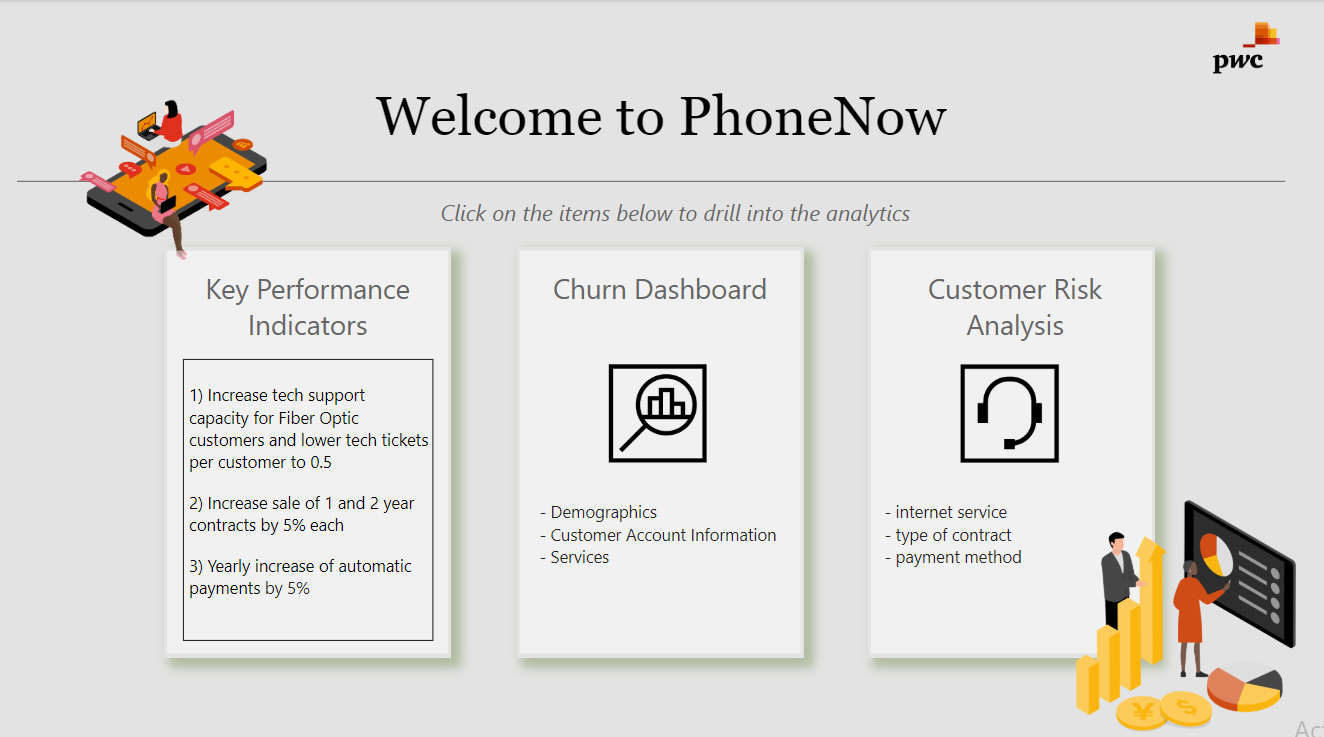

Layout of this report page (visuals, bound fields, positions):
{"tool":"powerbi","page":{"name":"Welcome","canvas":[1280,720],"ordinal":0},"visuals":[{"type":"basicShape","box":[500.5,238.4,276.8,396.5],"z":0},{"type":"basicShape","box":[839.4,238.4,276.8,396.5],"z":1000},{"type":"textbox","box":[0,77,1280,78.9],"z":2000},{"type":"basicShape","box":[7.9,155.9,1243.8,40.7],"z":3000},{"type":"image","box":[924.5,347.8,105,105],"z":4000},{"type":"textbox","box":[843.6,256.2,276.7,86.7],"z":5000},{"type":"image","box":[584.4,347.8,105,105],"z":6000},{"type":"textbox","box":[28.2,186.1,1251.8,51.6],"z":7000},{"type":"image","box":[0,0,362.6,328.8],"z":8000},{"type":"textbox","box":[500.9,256.2,276.7,86.7],"z":9000},{"type":"textbox","box":[517.4,479.5,255.3,140.1],"z":10000},{"type":"textbox","box":[7.9,672.2,397.7,47.4],"z":11000},{"type":"image","box":[1013.1,479.3,266.9,232.8],"z":12000},{"type":"textbox","box":[850.4,479.3,255.2,140.3],"z":13000},{"type":"basicShape","box":[160.4,238.4,276.8,396.5],"z":14000},{"type":"textbox","box":[160.7,256.2,276.7,86.7],"z":15000},{"type":"textbox","box":[178.3,347.8,241.6,271.8],"z":16000},{"type":"image","box":[1129,0,151,94.5],"z":17000}]}

Visuals, with their boxes in screenshot pixels (x1, y1, x2, y2), scaled from the page's 1280x720 canvas onto the 1324x737 screenshot:
basicShape: <box>518,244,804,650</box>
basicShape: <box>868,244,1155,650</box>
textbox: <box>0,79,1323,160</box>
basicShape: <box>8,160,1295,201</box>
image: <box>956,356,1065,463</box>
textbox: <box>873,262,1159,351</box>
image: <box>604,356,713,463</box>
textbox: <box>29,190,1323,243</box>
image: <box>0,0,375,337</box>
textbox: <box>518,262,804,351</box>
textbox: <box>535,491,799,634</box>
textbox: <box>8,688,420,736</box>
image: <box>1048,491,1323,729</box>
textbox: <box>880,491,1144,634</box>
basicShape: <box>166,244,452,650</box>
textbox: <box>166,262,452,351</box>
textbox: <box>184,356,434,634</box>
image: <box>1168,0,1323,97</box>
